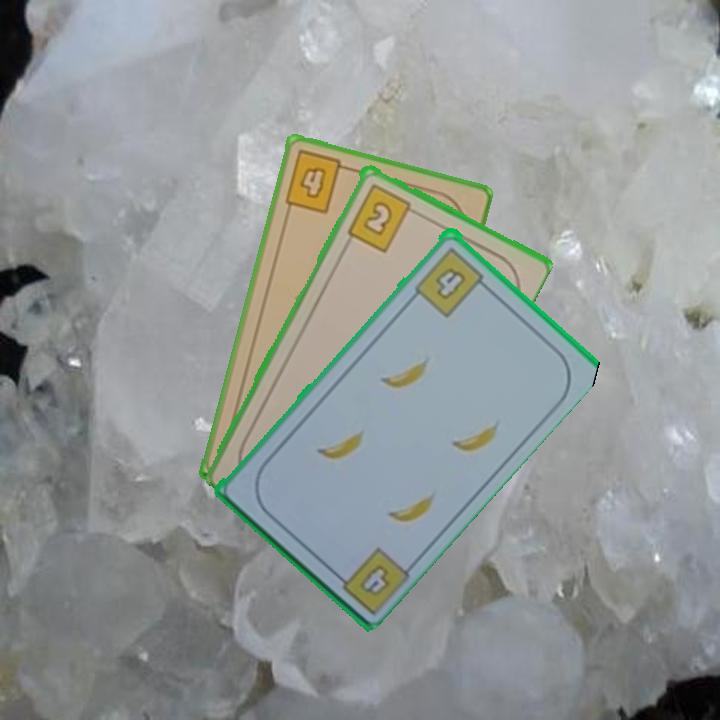2b: (343, 179, 421, 255)
4b: (328, 542, 412, 616), (411, 243, 491, 320), (281, 146, 354, 217)
